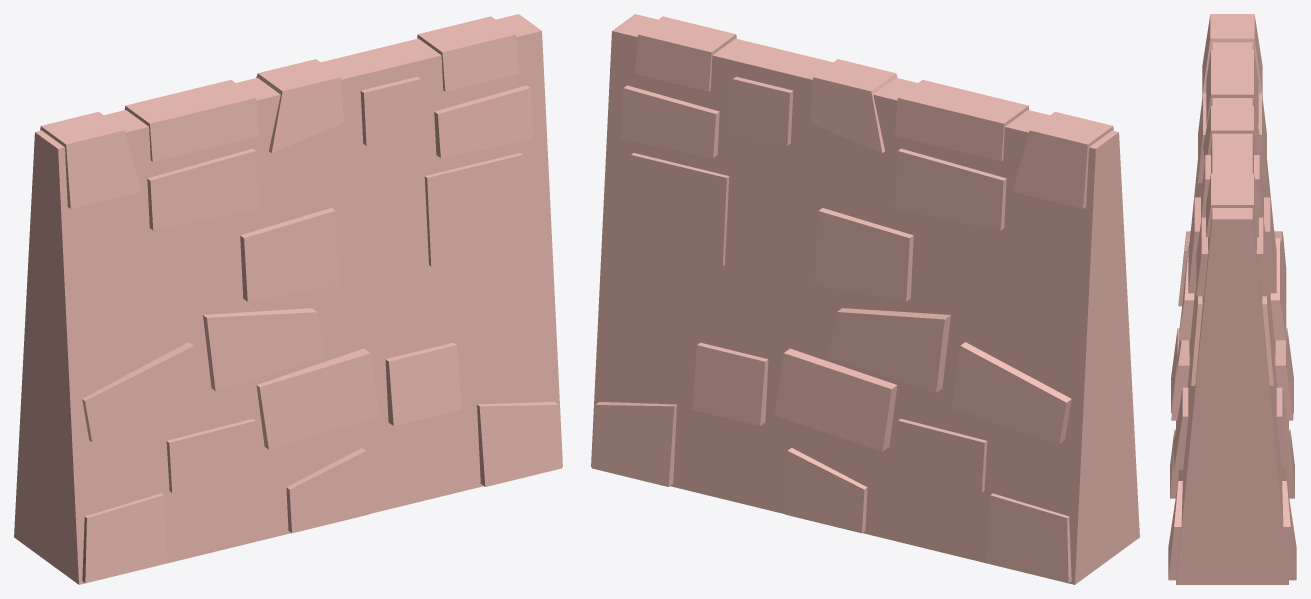
Rendered from Mega_Asset_s_Pack_Cube_197.FBX.
3 views of the same model, side by side, from view 1: azimuth 30°, elevation 25°; view 2: azimuth 150°, elevation 25°; view 3: azimuth 270°, elevation 25° (orthographic). The views are drawn at different scales.
Visible parts, largest first — view 1: Mega_Asset_s_Pack_Cube_197; view 2: Mega_Asset_s_Pack_Cube_197; view 3: Mega_Asset_s_Pack_Cube_197.
Part boxes in pixels (left/top/right/bottom): Mega_Asset_s_Pack_Cube_197: left=14, top=14, right=562, bottom=584; Mega_Asset_s_Pack_Cube_197: left=591, top=14, right=1139, bottom=584; Mega_Asset_s_Pack_Cube_197: left=1168, top=14, right=1296, bottom=584.
Size of what is drawn, in the model's own units: 388 by 103 by 325.
